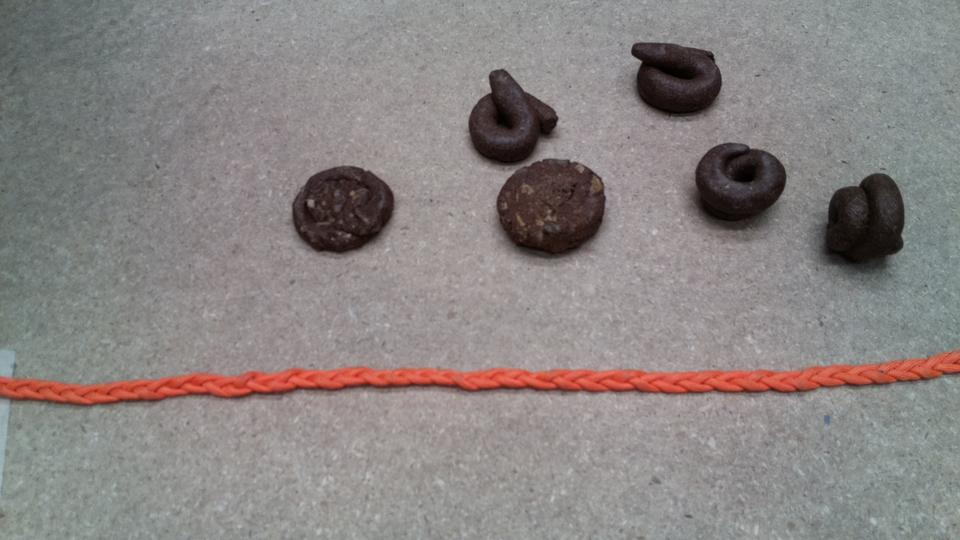poop: (496, 153, 614, 262), (287, 158, 405, 262), (820, 164, 916, 271), (463, 70, 565, 163), (691, 137, 794, 226), (627, 34, 728, 123)
rope: (4, 351, 960, 405)
